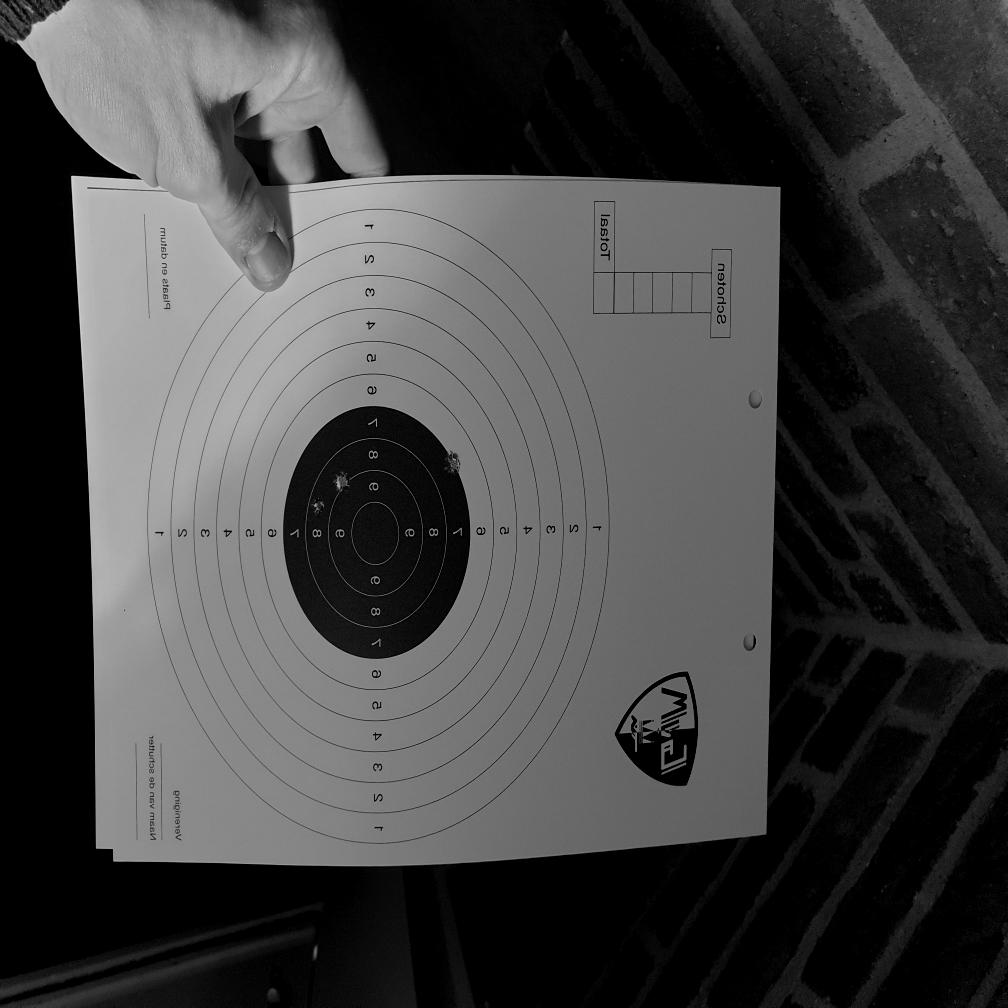7: (444, 450, 460, 476)
8: (310, 496, 325, 518)
9: (334, 470, 351, 493)
Target: (146, 205, 613, 845)
black_contour: (283, 405, 471, 659)
